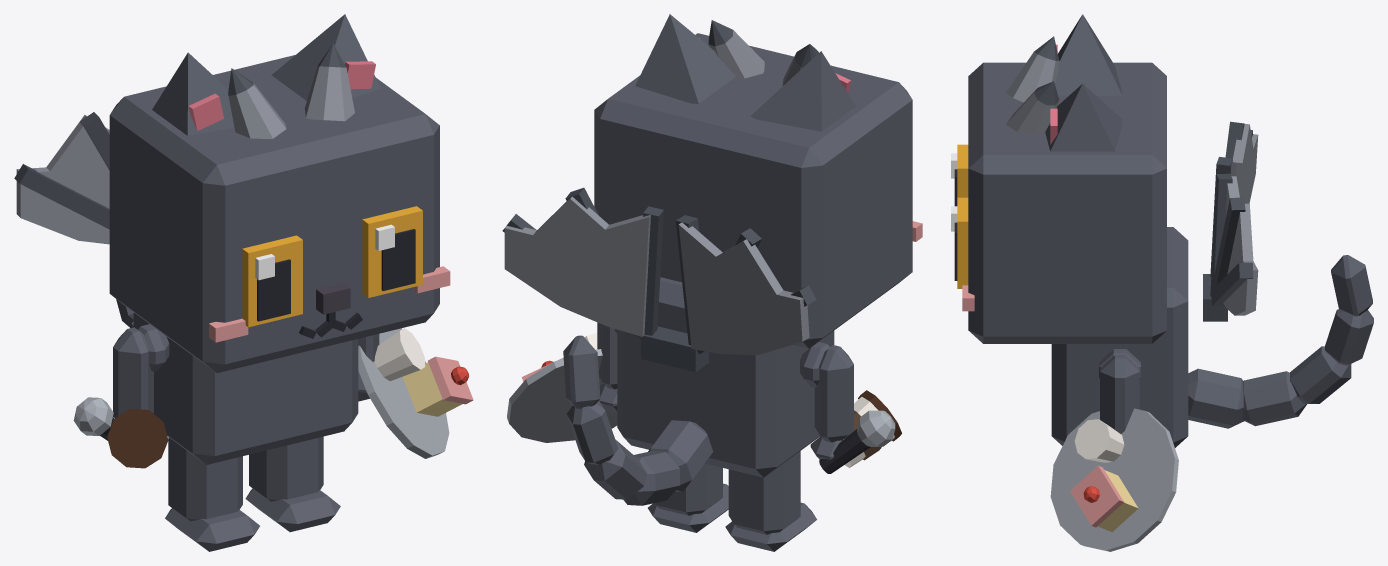
Rendered from CatCafe_Cat_Gargoyle_Work.glb.
The picture shows the model from 3 angles, left to right: view 1: azimuth 30°, elevation 25°; view 2: azimuth 150°, elevation 25°; view 3: azimuth 270°, elevation 25°; orthographic projection. The views are drawn at different scales.
Parts seen in each view (by area): view 1: CatCafe_Cat_Gargoyle_Work_Head, CatCafe_Cat_Gargoyle_Work_Body, CatCafe_Cat_Gargoyle_Work_Held_Waiter, CatCafe_Cat_Gargoyle_Work_Prop, CatCafe_Cat_Gargoyle_Work_LegB2, CatCafe_Cat_Gargoyle_Work_LegB1, CatCafe_Cat_Gargoyle_Work_Prop2, CatCafe_Cat_Gargoyle_Work_Eye1, CatCafe_Cat_Gargoyle_Work_Eye2, CatCafe_Cat_Gargoyle_Work_EarR, CatCafe_Cat_Gargoyle_Work_EarL, CatCafe_Cat_Gargoyle_Work_LegF2 (+3 smaller); view 2: CatCafe_Cat_Gargoyle_Work_Head, CatCafe_Cat_Gargoyle_Work_Prop, CatCafe_Cat_Gargoyle_Work_Body, CatCafe_Cat_Gargoyle_Work_Tail, CatCafe_Cat_Gargoyle_Work_LegB2, CatCafe_Cat_Gargoyle_Work_EarL, CatCafe_Cat_Gargoyle_Work_EarR, CatCafe_Cat_Gargoyle_Work_Held_Waiter, CatCafe_Cat_Gargoyle_Work_LegF2, CatCafe_Cat_Gargoyle_Work_LegB1, CatCafe_Cat_Gargoyle_Work_Prop2, CatCafe_Cat_Gargoyle_Work_Held_Entertainer (+2 smaller); view 3: CatCafe_Cat_Gargoyle_Work_Head, CatCafe_Cat_Gargoyle_Work_Held_Waiter, CatCafe_Cat_Gargoyle_Work_Body, CatCafe_Cat_Gargoyle_Work_Tail, CatCafe_Cat_Gargoyle_Work_Prop, CatCafe_Cat_Gargoyle_Work_EarL, CatCafe_Cat_Gargoyle_Work_EarR, CatCafe_Cat_Gargoyle_Work_Prop2, CatCafe_Cat_Gargoyle_Work_LegF1, CatCafe_Cat_Gargoyle_Work_Eye1, CatCafe_Cat_Gargoyle_Work_Eye2.
Boxes of the visible parts, bbox=[...] form: CatCafe_Cat_Gargoyle_Work_Head: bbox=[109, 55, 450, 373]; CatCafe_Cat_Gargoyle_Work_Body: bbox=[133, 312, 358, 464]; CatCafe_Cat_Gargoyle_Work_Held_Waiter: bbox=[358, 328, 473, 458]; CatCafe_Cat_Gargoyle_Work_Prop: bbox=[14, 112, 109, 244]; CatCafe_Cat_Gargoyle_Work_LegB2: bbox=[165, 437, 259, 551]; CatCafe_Cat_Gargoyle_Work_LegB1: bbox=[245, 436, 340, 532]; CatCafe_Cat_Gargoyle_Work_Prop2: bbox=[228, 43, 354, 138]; CatCafe_Cat_Gargoyle_Work_Eye1: bbox=[362, 206, 422, 297]; CatCafe_Cat_Gargoyle_Work_Eye2: bbox=[242, 235, 302, 327]; CatCafe_Cat_Gargoyle_Work_EarR: bbox=[152, 52, 234, 135]; CatCafe_Cat_Gargoyle_Work_EarL: bbox=[271, 14, 380, 100]; CatCafe_Cat_Gargoyle_Work_LegF2: bbox=[113, 327, 153, 417]; CatCafe_Cat_Gargoyle_Work_Head: bbox=[594, 33, 922, 348]; CatCafe_Cat_Gargoyle_Work_Prop: bbox=[502, 187, 816, 372]; CatCafe_Cat_Gargoyle_Work_Body: bbox=[614, 277, 834, 477]; CatCafe_Cat_Gargoyle_Work_Tail: bbox=[563, 335, 713, 505]; CatCafe_Cat_Gargoyle_Work_LegB2: bbox=[725, 451, 816, 551]; CatCafe_Cat_Gargoyle_Work_EarL: bbox=[635, 14, 735, 103]; CatCafe_Cat_Gargoyle_Work_EarR: bbox=[750, 51, 855, 131]; CatCafe_Cat_Gargoyle_Work_Held_Waiter: bbox=[507, 333, 617, 442]; CatCafe_Cat_Gargoyle_Work_LegF2: bbox=[810, 345, 853, 459]; CatCafe_Cat_Gargoyle_Work_LegB1: bbox=[648, 463, 728, 532]; CatCafe_Cat_Gargoyle_Work_Prop2: bbox=[708, 20, 818, 85]; CatCafe_Cat_Gargoyle_Work_Held_Entertainer: bbox=[819, 410, 895, 473]; CatCafe_Cat_Gargoyle_Work_Head: bbox=[962, 62, 1166, 343]; CatCafe_Cat_Gargoyle_Work_Held_Waiter: bbox=[1050, 408, 1178, 551]; CatCafe_Cat_Gargoyle_Work_Body: bbox=[1051, 227, 1188, 447]; CatCafe_Cat_Gargoyle_Work_Tail: bbox=[1188, 255, 1373, 428]; CatCafe_Cat_Gargoyle_Work_Prop: bbox=[1203, 121, 1258, 321]; CatCafe_Cat_Gargoyle_Work_EarL: bbox=[1045, 83, 1122, 151]; CatCafe_Cat_Gargoyle_Work_EarR: bbox=[1055, 14, 1122, 95]; CatCafe_Cat_Gargoyle_Work_Prop2: bbox=[1006, 36, 1059, 133]; CatCafe_Cat_Gargoyle_Work_LegF1: bbox=[1100, 355, 1139, 433]; CatCafe_Cat_Gargoyle_Work_Eye1: bbox=[951, 197, 968, 288]; CatCafe_Cat_Gargoyle_Work_Eye2: bbox=[951, 144, 968, 206].
Bounding box in the file's own units: 1.53 × 1.93 × 1.62.
1 material, 1 textured.
